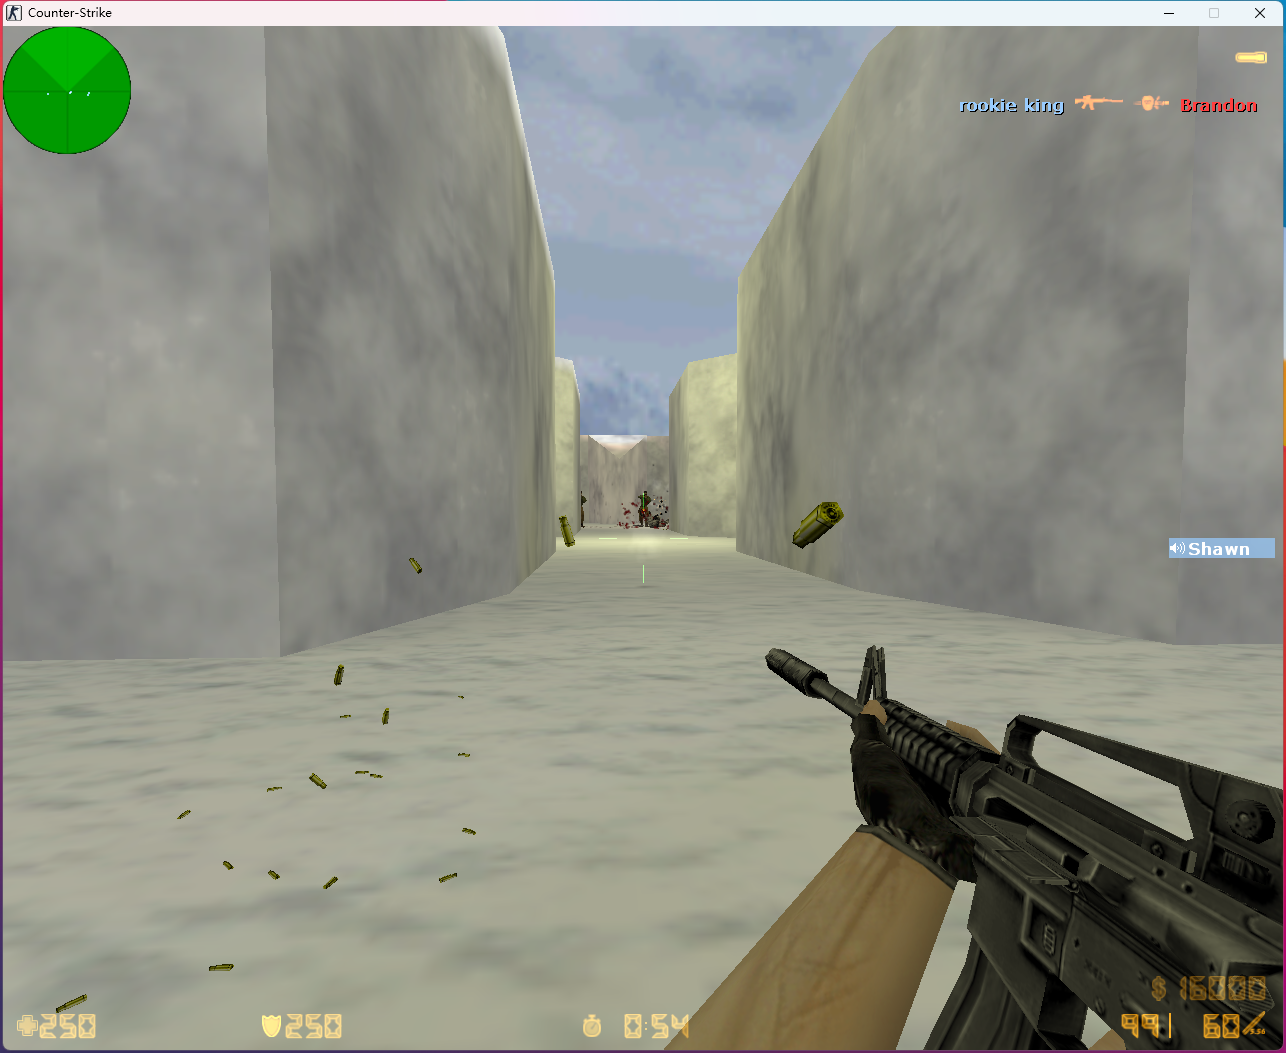T: (637, 491, 650, 526), (581, 491, 586, 526)
